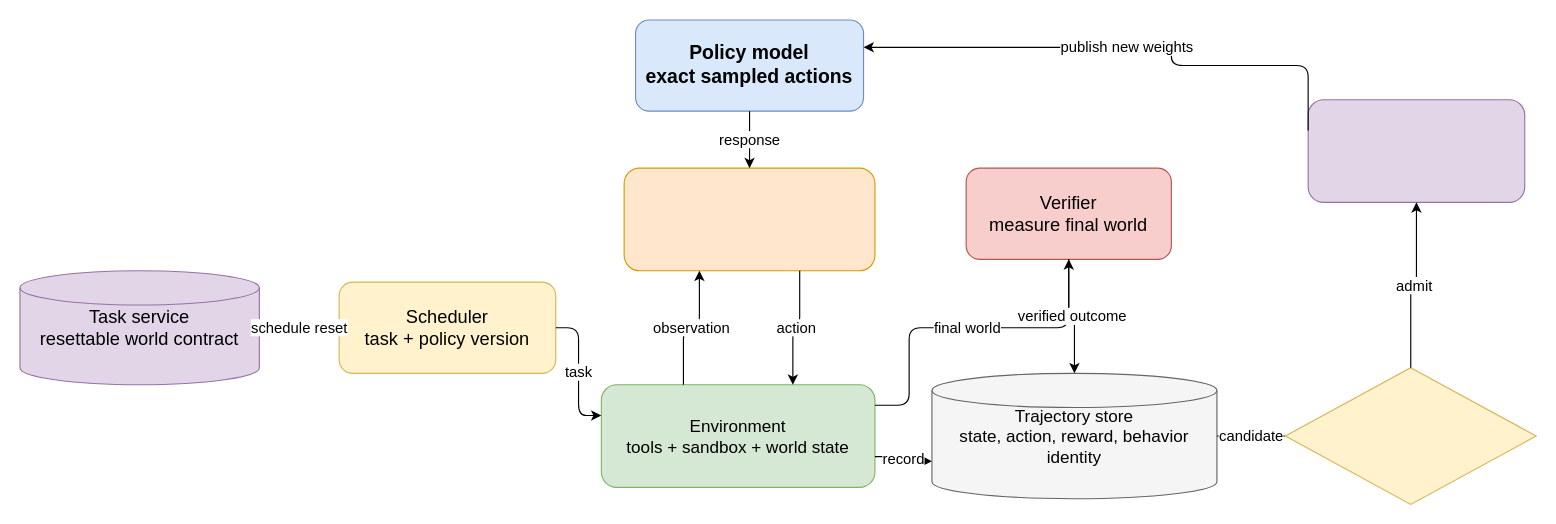
Image size: 1556x524. Some labels were removed from this diagram. Here are the shapes that lost their labels. From the top down, the centre of each, then its label:
(x=1416, y=150): Trainer consume admitted experience
(x=749, y=219): Agent harness prompt + parser + memory + budgets
(x=1410, y=435): Admission gate fresh + complete + contract-valid?
